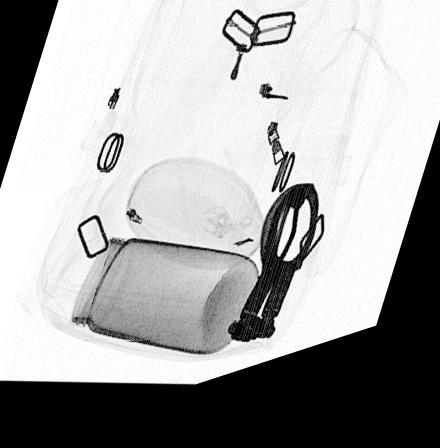HandCuffs: (227, 200, 326, 359)
